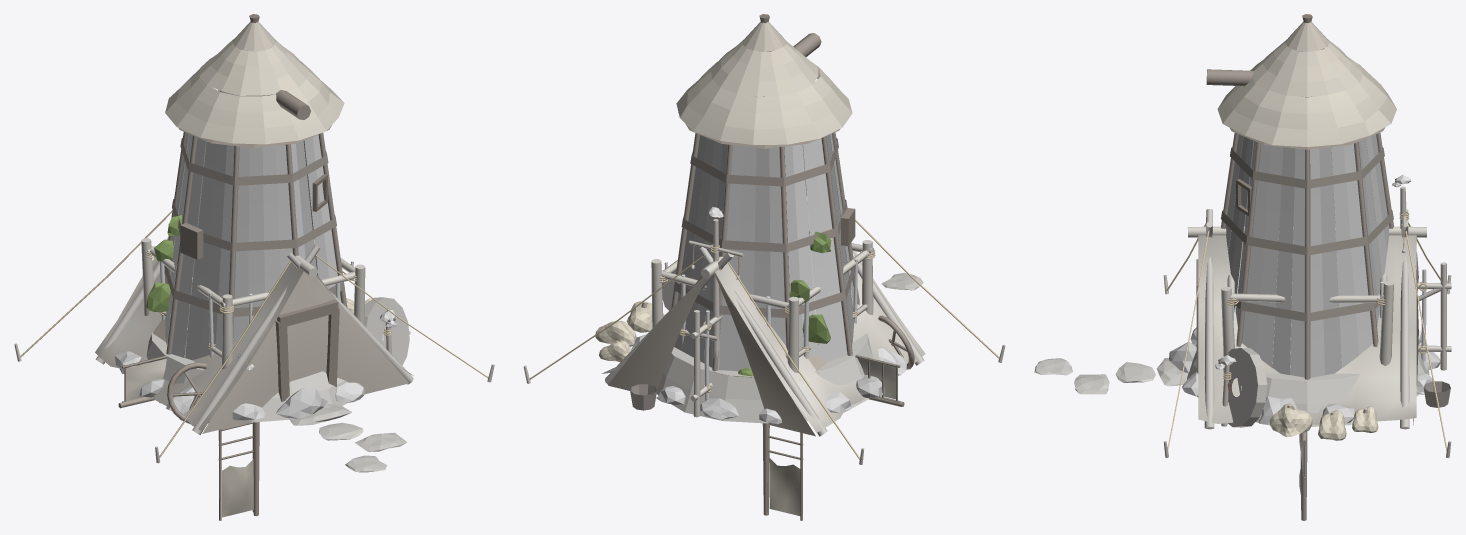
File: structures.glb
3 views of the same model, side by side, from view 1: azimuth 30°, elevation 25°; view 2: azimuth 150°, elevation 25°; view 3: azimuth 270°, elevation 25° (orthographic).
Visible parts, largest first — view 1: mill_body, ork_tent, mill_sails, ork_cage; view 2: mill_body, ork_tent, ork_cage, mill_sails, ork_cage_door, ork_banner; view 3: mill_body, ork_tent, ork_cage, ork_cage_door, mill_sails, ork_banner, ork_spikes.
Part boxes in pixels (<box>): mill_body: <box>114,14,410,472</box>; ork_tent: <box>14,210,494,463</box>; mill_sails: <box>118,355,259,520</box>; ork_cage: <box>141,238,365,369</box>; mill_body: <box>595,14,923,424</box>; ork_tent: <box>523,196,1005,464</box>; ork_cage: <box>651,240,875,401</box>; mill_sails: <box>636,337,904,520</box>; ork_cage_door: <box>690,310,729,417</box>; ork_banner: <box>688,207,744,373</box>; mill_body: <box>1034,14,1440,440</box>; ork_tent: <box>1163,209,1451,458</box>; ork_cage: <box>1221,273,1393,365</box>; ork_cage_door: <box>1417,262,1451,370</box>; mill_sails: <box>1299,431,1307,520</box>; ork_banner: <box>1392,175,1410,253</box>; ork_spikes: <box>1215,352,1236,426</box>.
Bounding box in the file's own units: 5.72 × 8.02 × 6.02.
